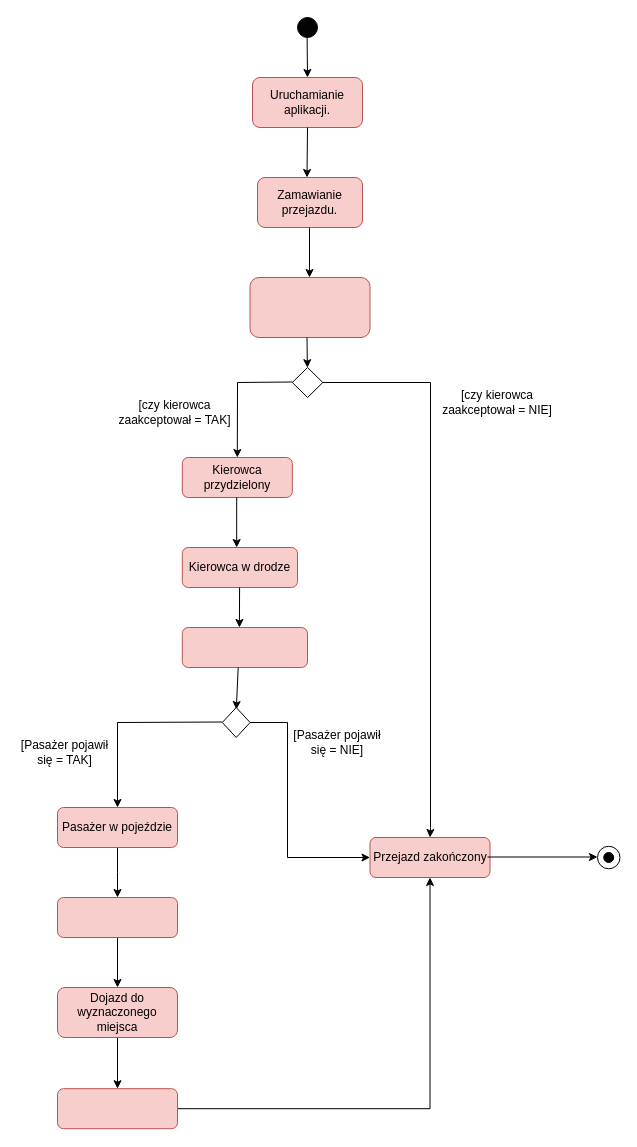
This 637x1147 diagram has some shape labels left out. Here are the shapes that lost their labels. From the top down, the centre of each, then its label:
[309,307]: Oczekiwanie na zaakceptowanie przez kierowcę
[244,647]: Kierowca na miejscu
[117,917]: Przejazd w trakcie
[117,1108]: Zapłata za przejazd
